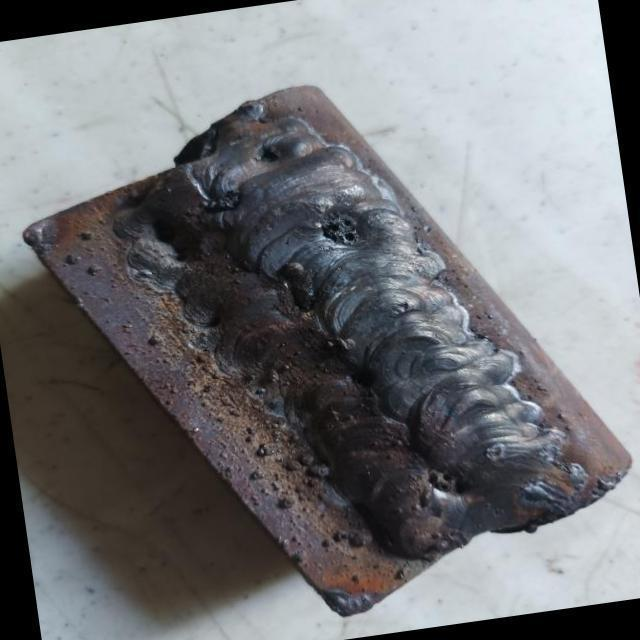defect: (419, 464, 476, 499), (317, 210, 369, 246), (194, 186, 245, 216), (248, 144, 283, 167), (351, 368, 381, 390), (486, 442, 508, 458)
